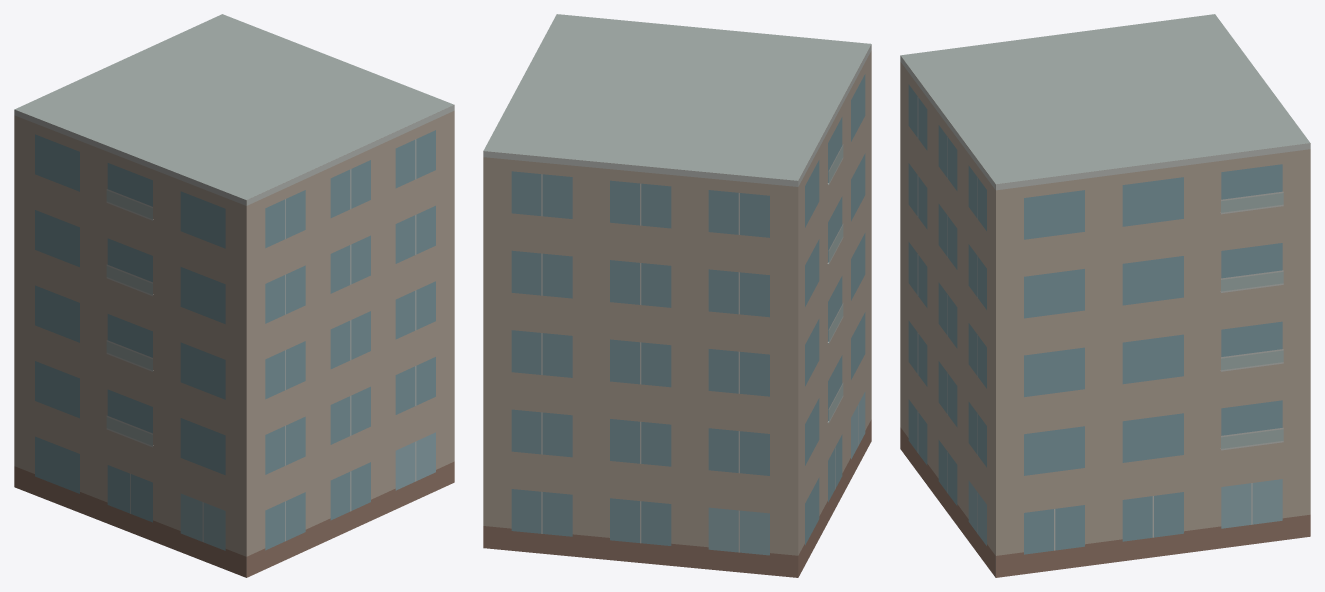
The model's file is survey-upis-32960904.glb.
The picture shows the model from 3 angles, left to right: view 1: azimuth 30°, elevation 25°; view 2: azimuth 150°, elevation 25°; view 3: azimuth 270°, elevation 25°; orthographic projection. The views are drawn at different scales.
Parts seen in each view (by area): view 1: survey-upis-32960904.tmp; view 2: survey-upis-32960904.tmp; view 3: survey-upis-32960904.tmp.
Part boxes in pixels (x1,y1,x2,y2): survey-upis-32960904.tmp: (14,14,454,577); survey-upis-32960904.tmp: (483,14,871,577); survey-upis-32960904.tmp: (900,14,1310,577).
Bounding box in the file's own units: 14.67 × 15.8 × 14.93.
